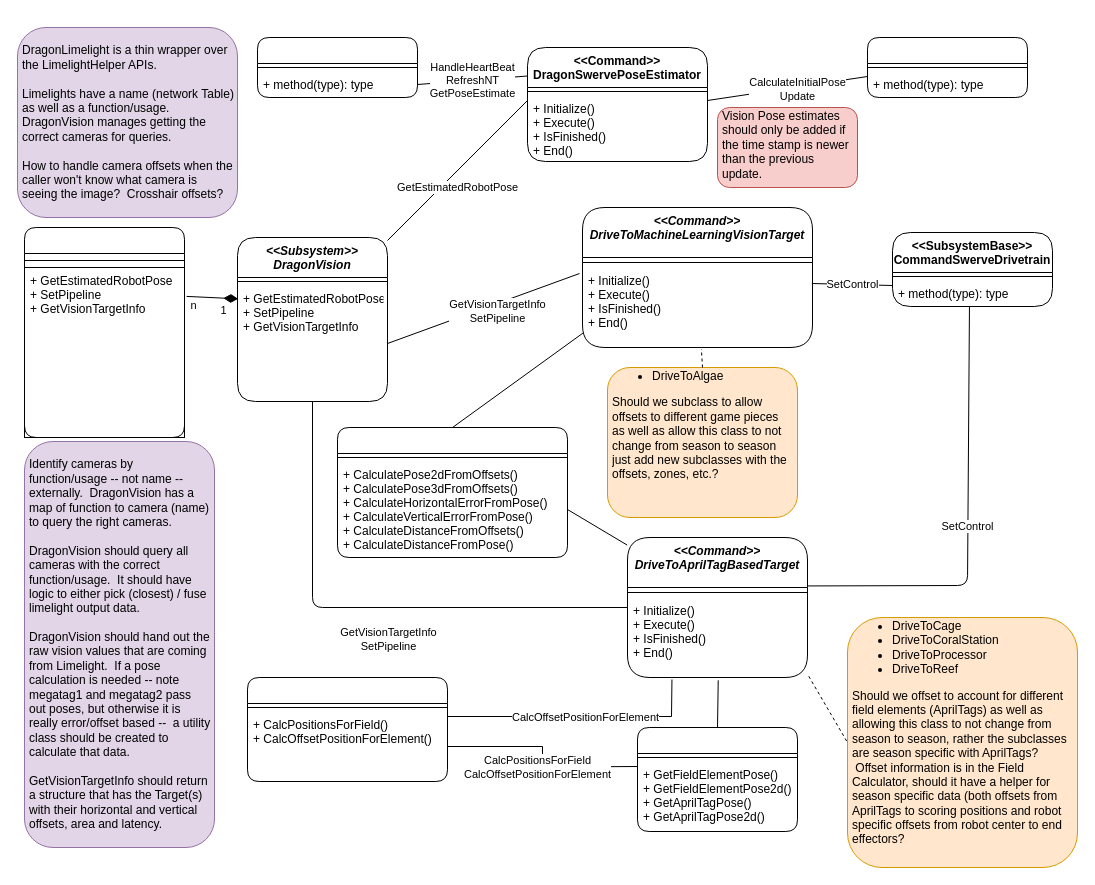
Image size: 1095x885. Some labels were removed from this diagram. The shapes that lost their labels are listed below. From the top down, each one's box as (x1, y1, x2, y2) in pixels, then its label:
(256, 36, 418, 98): DragonQuest
(866, 36, 1028, 98): Robot
(24, 226, 184, 438): DragonLimelight
(336, 426, 568, 558): PoseOffsetUtils
(246, 676, 448, 782): FieldElementCalculator
(636, 726, 798, 832): FieldConstants
